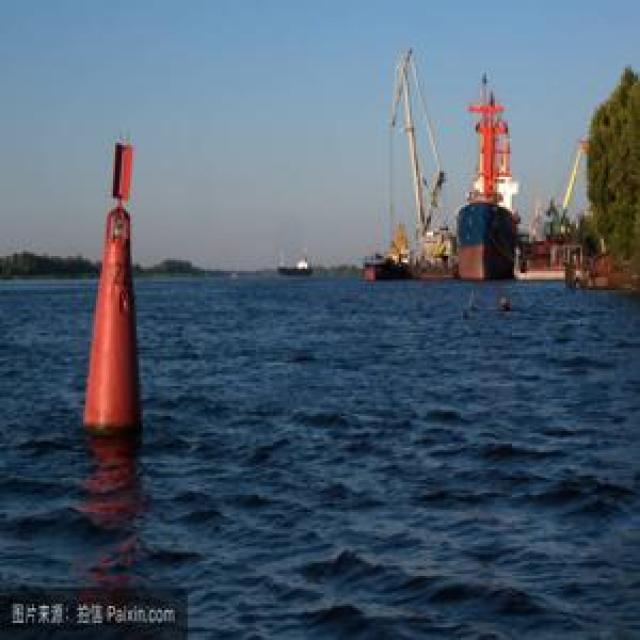buoy: (60, 135, 166, 419)
cargoship: (422, 79, 540, 288)
